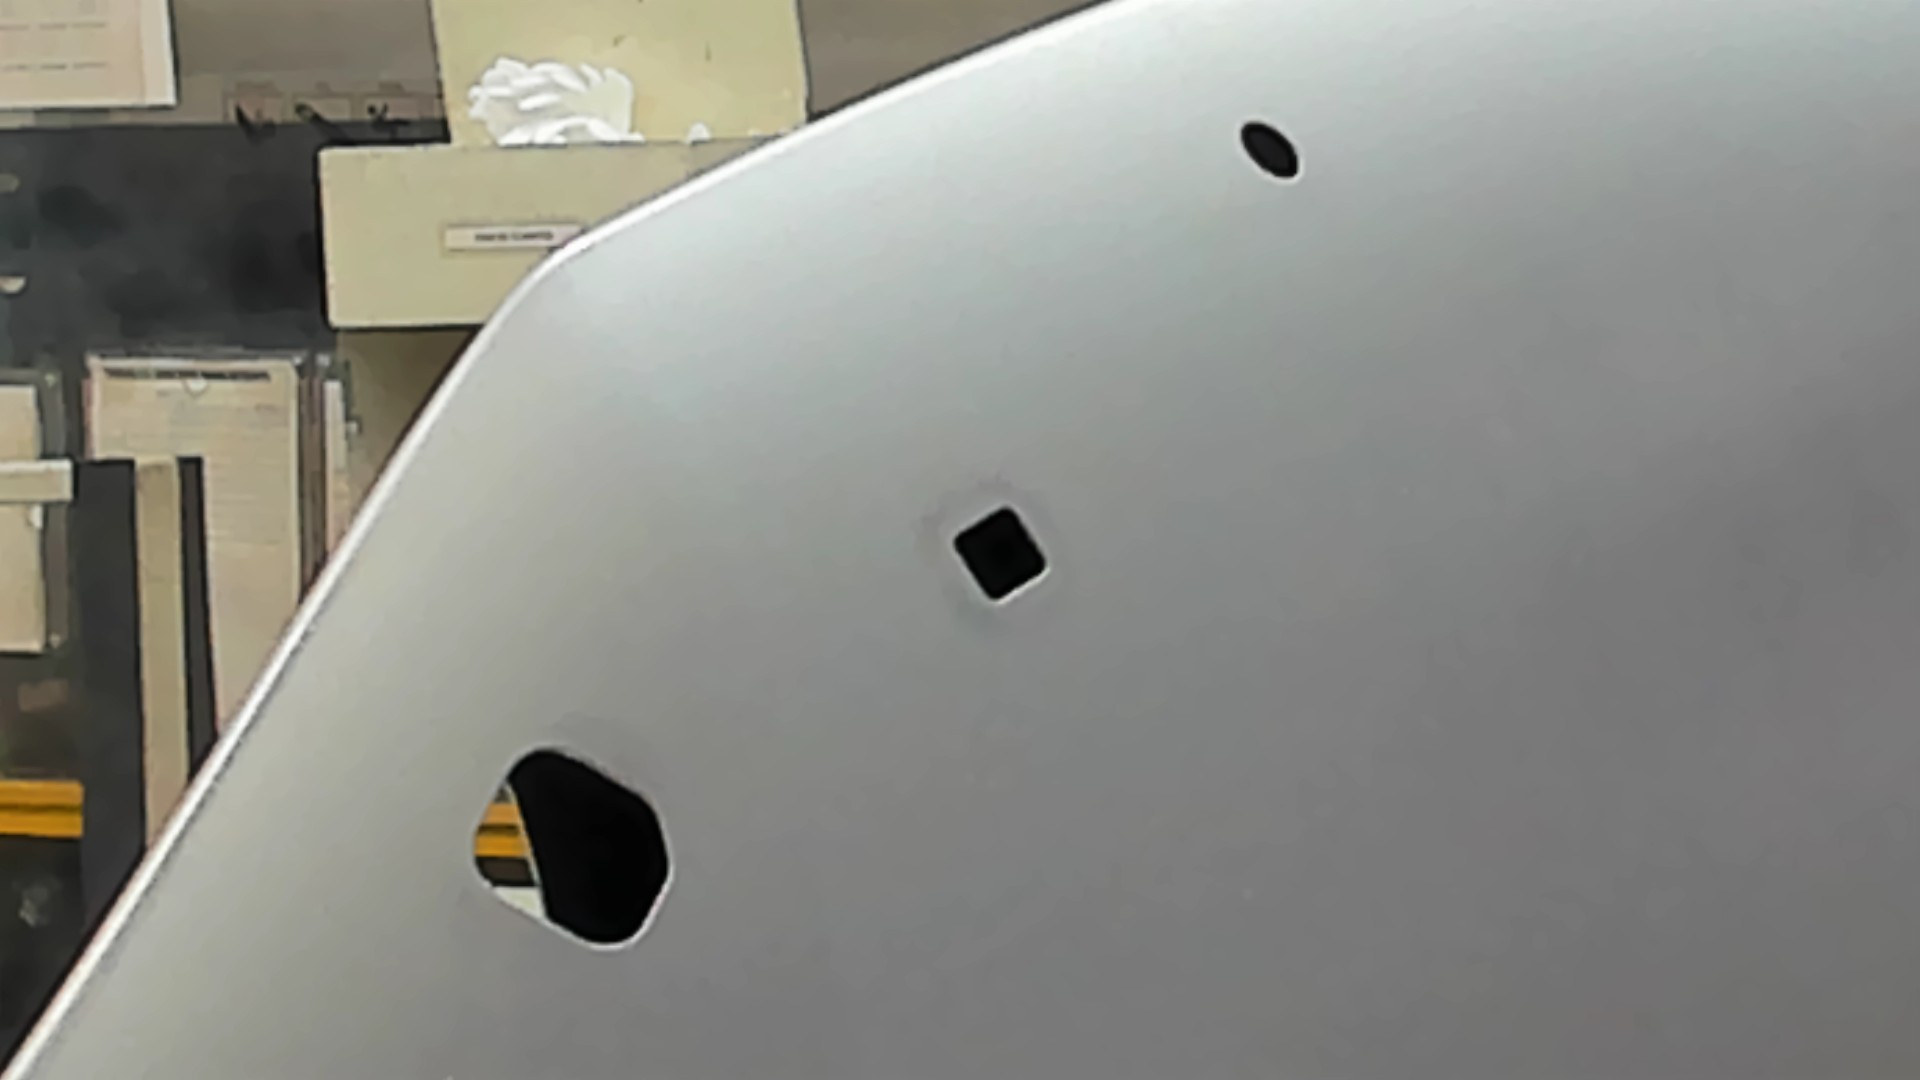Agujero: (949, 504, 1047, 605), (1237, 119, 1302, 181)
Agujerote: (469, 745, 674, 952)
